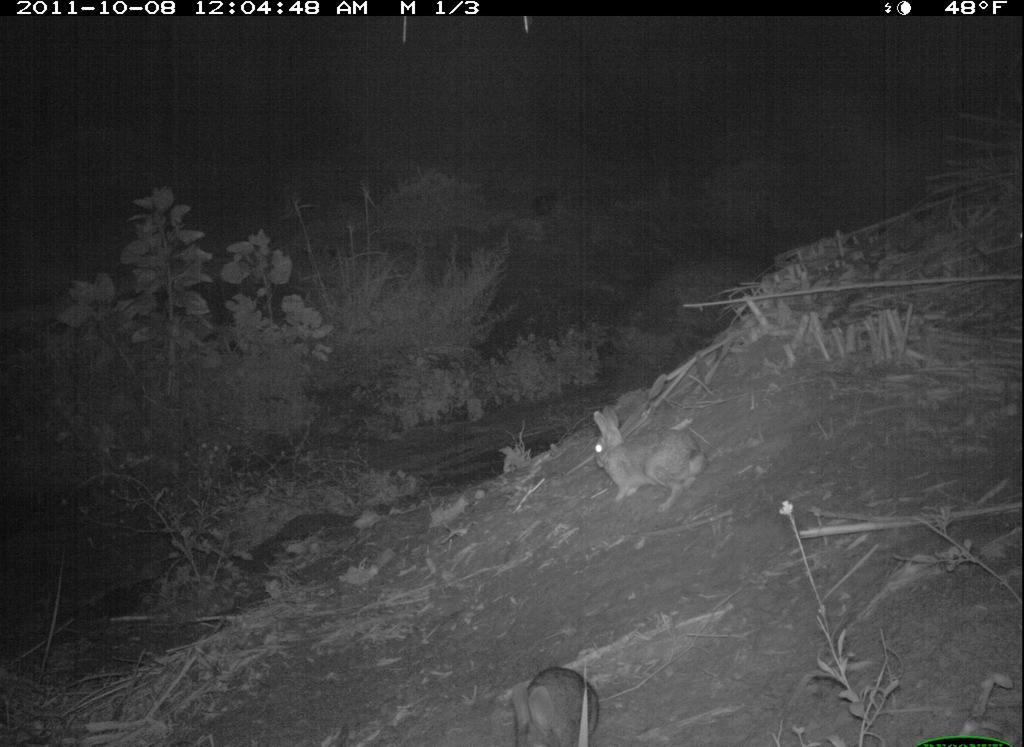rabbit: (582, 400, 711, 513), (506, 662, 603, 745)
